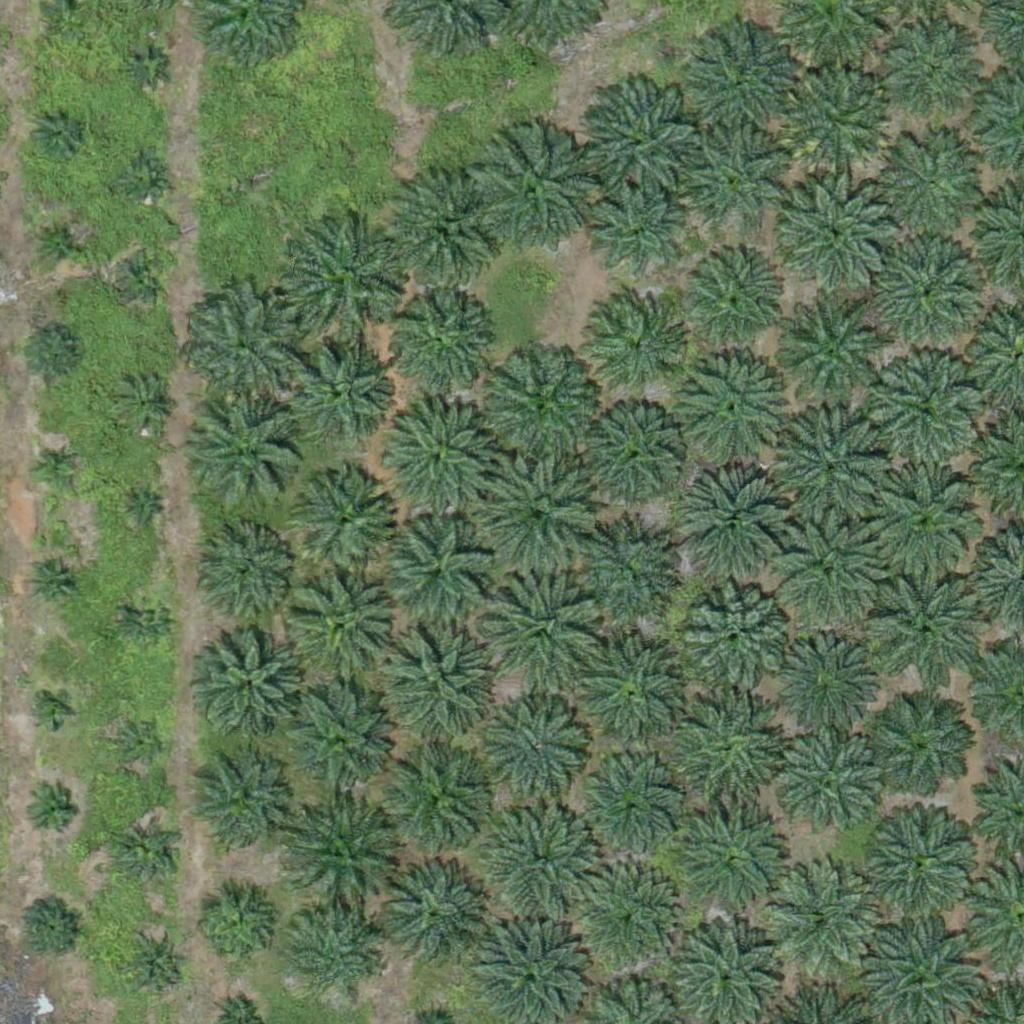Kelapa_Sawit: (575, 79, 700, 205), (469, 132, 594, 258), (286, 217, 411, 343), (476, 450, 601, 576), (478, 340, 603, 466), (664, 691, 789, 817), (674, 801, 799, 927), (373, 618, 498, 744), (480, 566, 605, 692), (388, 171, 501, 285), (488, 803, 601, 917), (782, 173, 895, 286), (779, 300, 892, 413), (773, 413, 886, 526), (672, 347, 785, 460), (772, 521, 885, 634), (866, 464, 979, 577), (378, 398, 491, 511), (377, 515, 490, 628), (864, 804, 977, 917), (870, 579, 983, 692), (766, 624, 879, 737), (374, 859, 487, 972), (566, 859, 679, 972), (673, 469, 785, 583), (380, 747, 492, 861), (288, 803, 400, 917), (284, 687, 396, 801), (287, 570, 399, 684), (766, 859, 878, 973), (873, 125, 985, 238), (874, 235, 986, 348), (872, 351, 984, 464), (187, 290, 299, 403), (196, 396, 308, 509), (775, 733, 887, 846), (681, 582, 793, 695), (576, 636, 688, 749), (880, 18, 980, 119), (786, 68, 886, 169), (696, 30, 796, 131), (684, 128, 784, 229), (680, 249, 780, 350), (586, 181, 686, 282), (289, 340, 389, 441), (295, 468, 395, 569), (872, 696, 972, 797), (579, 764, 679, 865), (491, 704, 591, 805), (584, 296, 684, 396), (582, 405, 682, 505), (567, 528, 667, 628), (388, 289, 488, 389), (200, 634, 300, 734), (188, 760, 288, 860), (190, 883, 277, 971), (205, 530, 292, 618), (290, 910, 377, 998), (125, 935, 188, 998), (20, 894, 83, 957), (20, 322, 83, 385), (119, 825, 181, 888), (26, 785, 76, 836), (119, 379, 169, 430), (35, 214, 85, 265), (124, 597, 174, 647), (33, 105, 83, 155), (119, 252, 169, 302), (122, 42, 172, 92), (118, 153, 168, 203), (30, 442, 80, 492), (113, 716, 163, 766), (29, 556, 79, 606), (33, 691, 71, 729), (131, 497, 156, 522)
